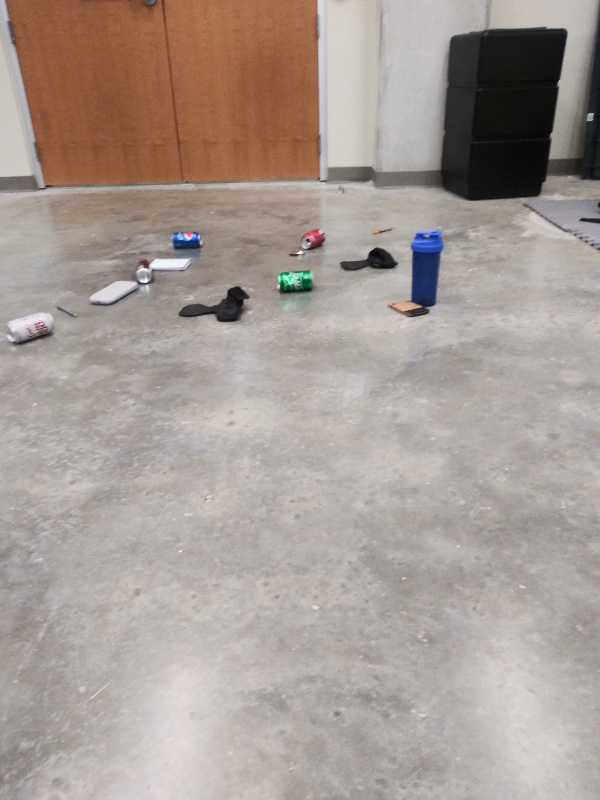can: (4, 309, 59, 346), (275, 269, 315, 294), (171, 230, 204, 252), (298, 228, 328, 251), (133, 257, 154, 286)
